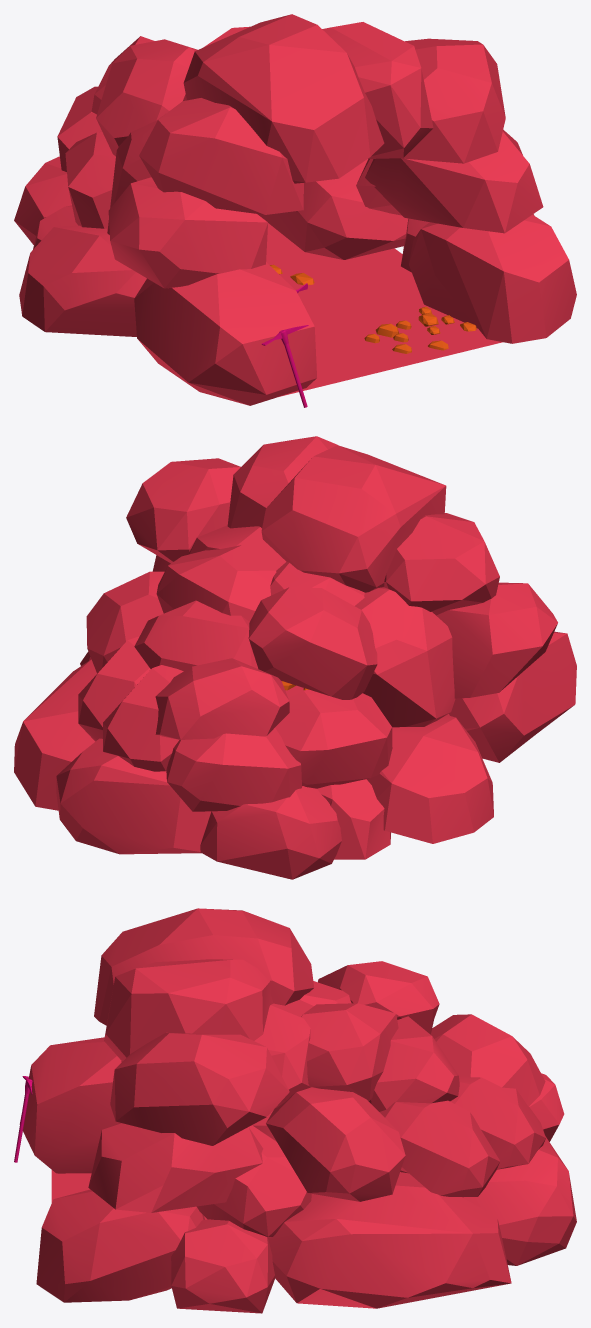
Rendered from Goldmine.fbx.
The picture shows the model from 3 angles, top to bottom: view 1: azimuth 30°, elevation 25°; view 2: azimuth 150°, elevation 25°; view 3: azimuth 270°, elevation 25°; orthographic projection. The views are drawn at different scales.
Parts seen in each view (by area): view 1: Cube, Cube.002, Cube.001; view 2: Cube; view 3: Cube.
Part boxes in pixels (x1,y1,x2,y2): Cube: (14,14,576,405); Cube.002: (270,264,476,353); Cube.001: (261,283,308,407); Cube: (14,436,576,879); Cube: (19,908,576,1313).
Size of the model in its own units: 5.61 by 3.43 by 6.06.
